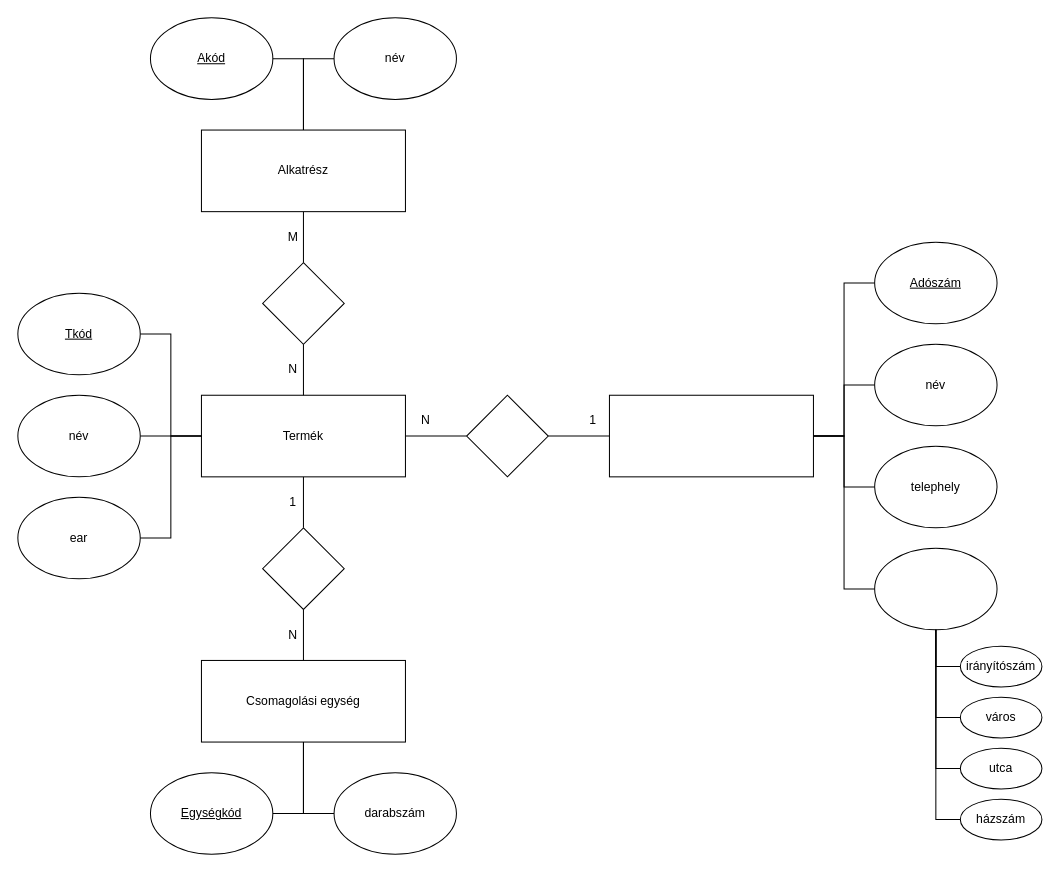
Some shapes in this 1060 by 872 pixel diagram are drawn without their labels. Here are the shapes that lost their labels. From the top down, the box of each, then its label:
(262, 262, 344, 344): Tartalmaz
(466, 394, 548, 477): Gyártja
(608, 394, 813, 477): Gyártó
(262, 527, 344, 609): Csomagol
(874, 547, 997, 630): postai cím
